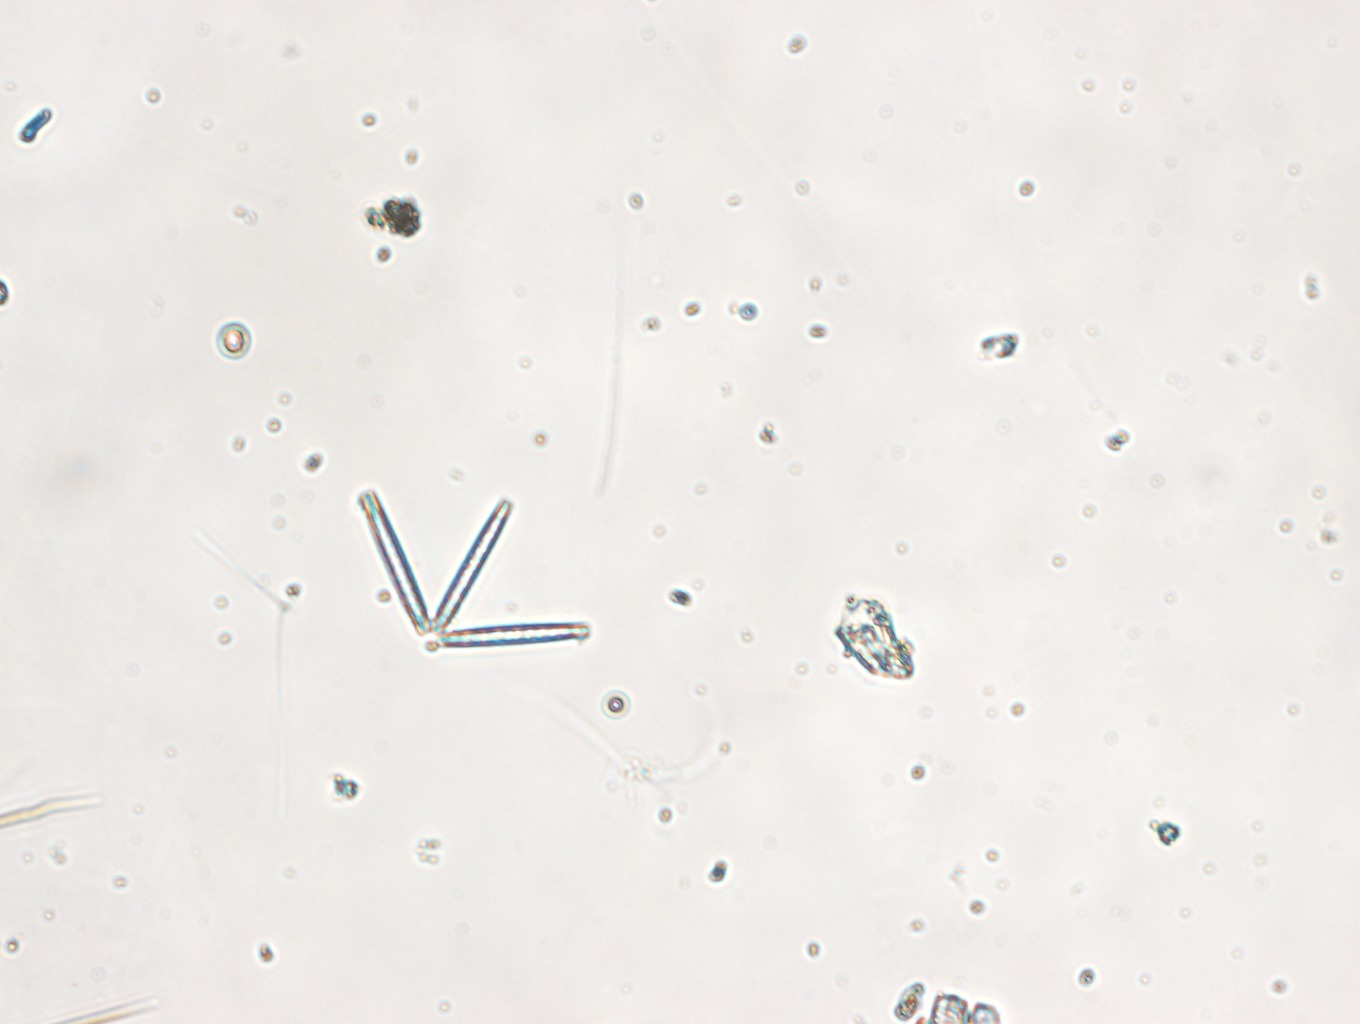thalassionema nitzschioides: (358, 486, 591, 652)
